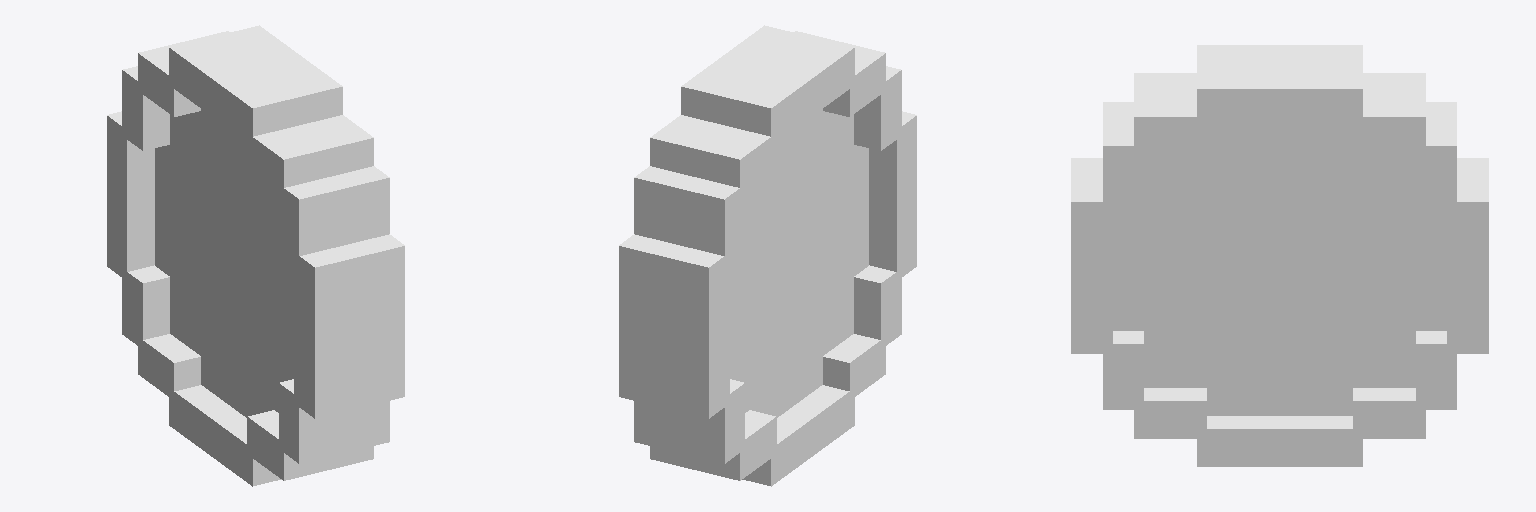
The model's file is Coin-0-Coin.obj.
3 renders of one model, left to right at view 1: azimuth 30°, elevation 25°; view 2: azimuth 150°, elevation 25°; view 3: azimuth 270°, elevation 25°, orthographic.
Visible parts, largest first — view 1: Coin; view 2: Coin; view 3: Coin.
Boxes of the visible parts, box(x1,y1,x2,y2) form: Coin: box(107, 25, 404, 486); Coin: box(619, 25, 916, 486); Coin: box(1071, 45, 1488, 466).
Bounding box in the file's own units: 1 × 4 × 4.